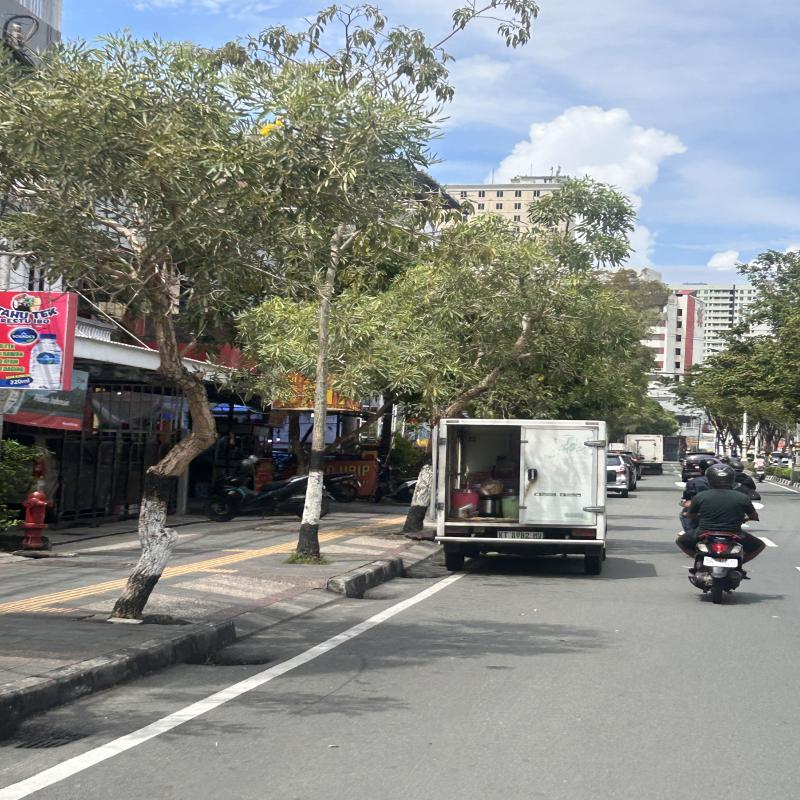license plate on a car: (497, 530, 542, 541)
